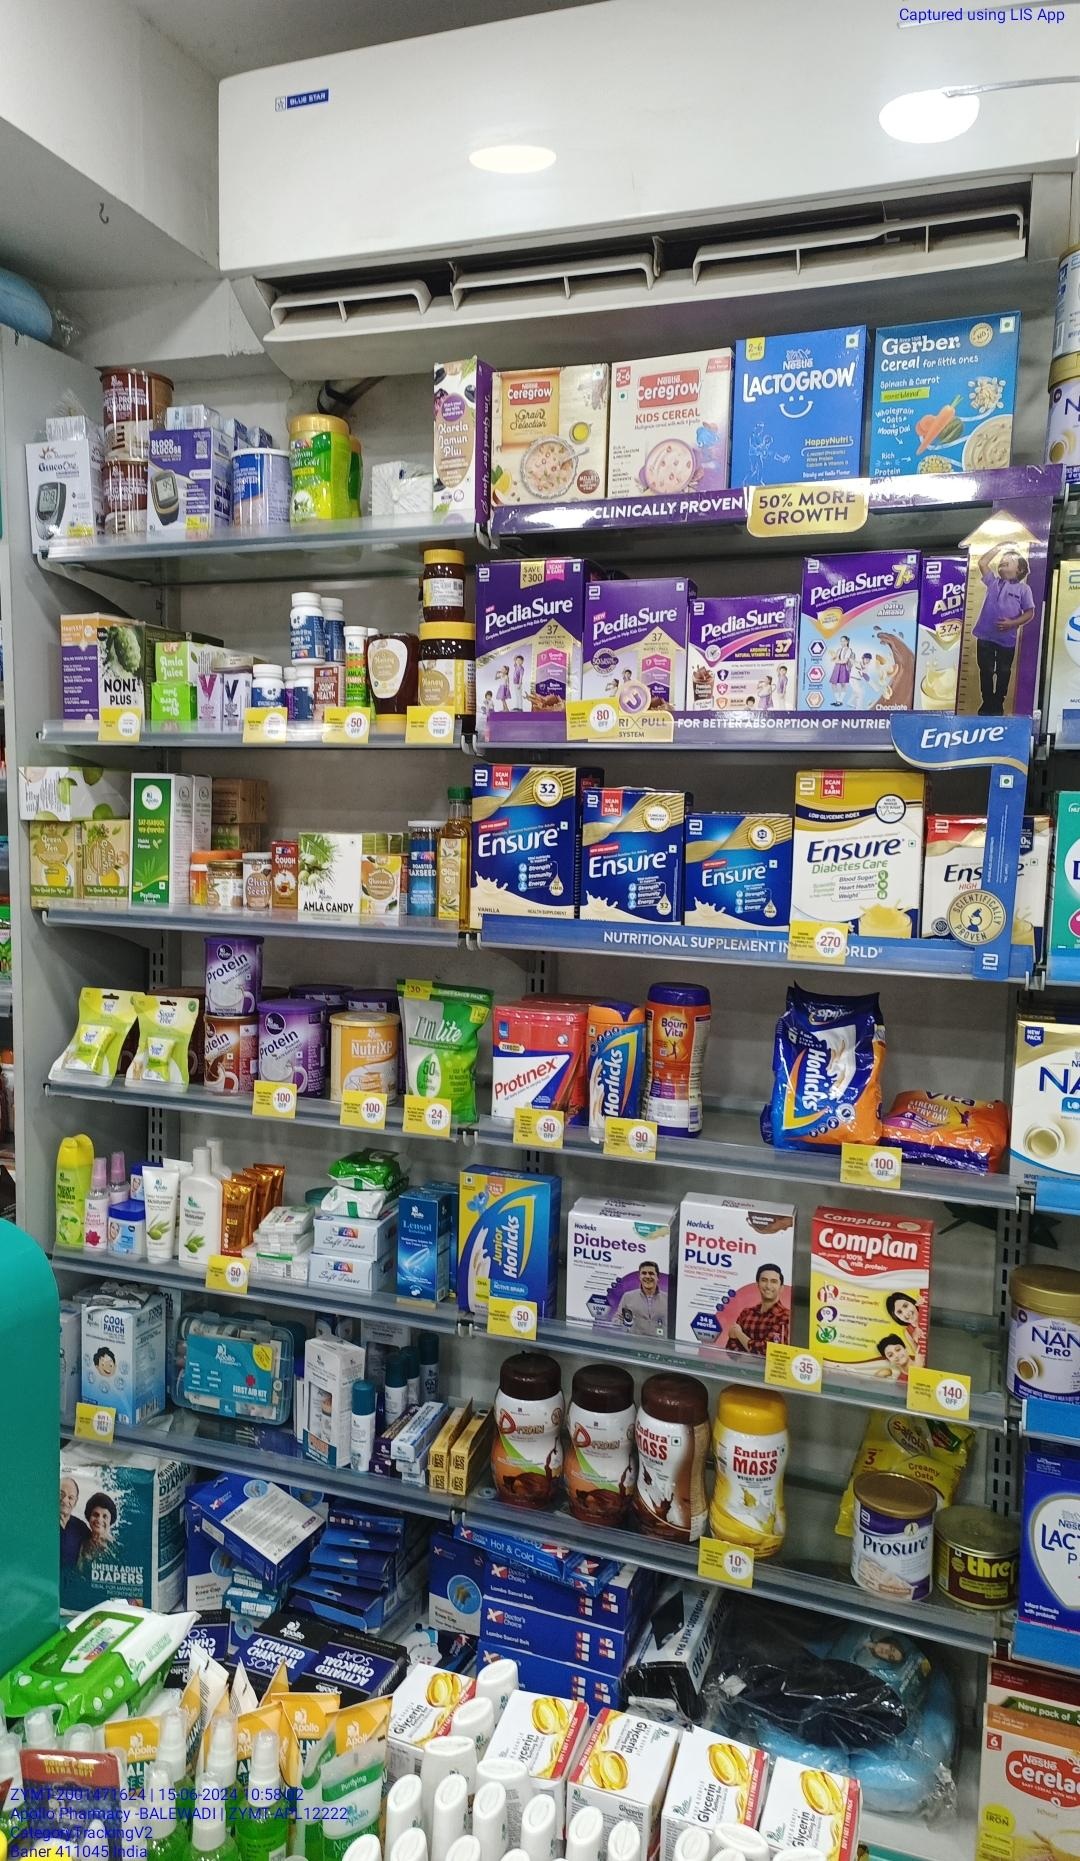COMPLAN_KESAR_BADAM_500_GMS_PACK: (811, 1220, 927, 1364)
ENSURE_VANILLA_400_G_PACK: (472, 767, 575, 918)
HORLICK_CLASSIC_MALT_500_G_PACK: (459, 1173, 552, 1298)
PEDIASURE_7_PLUS_CHOCOLATE_400_G_PACK: (801, 554, 915, 712)
PEDIASURE_CHOCOLATE_500_G_PACK: (476, 562, 582, 699)
PROTINEX_CHOCOLATE_400_G_JAR: (492, 1009, 582, 1108), (586, 1005, 643, 1116)
